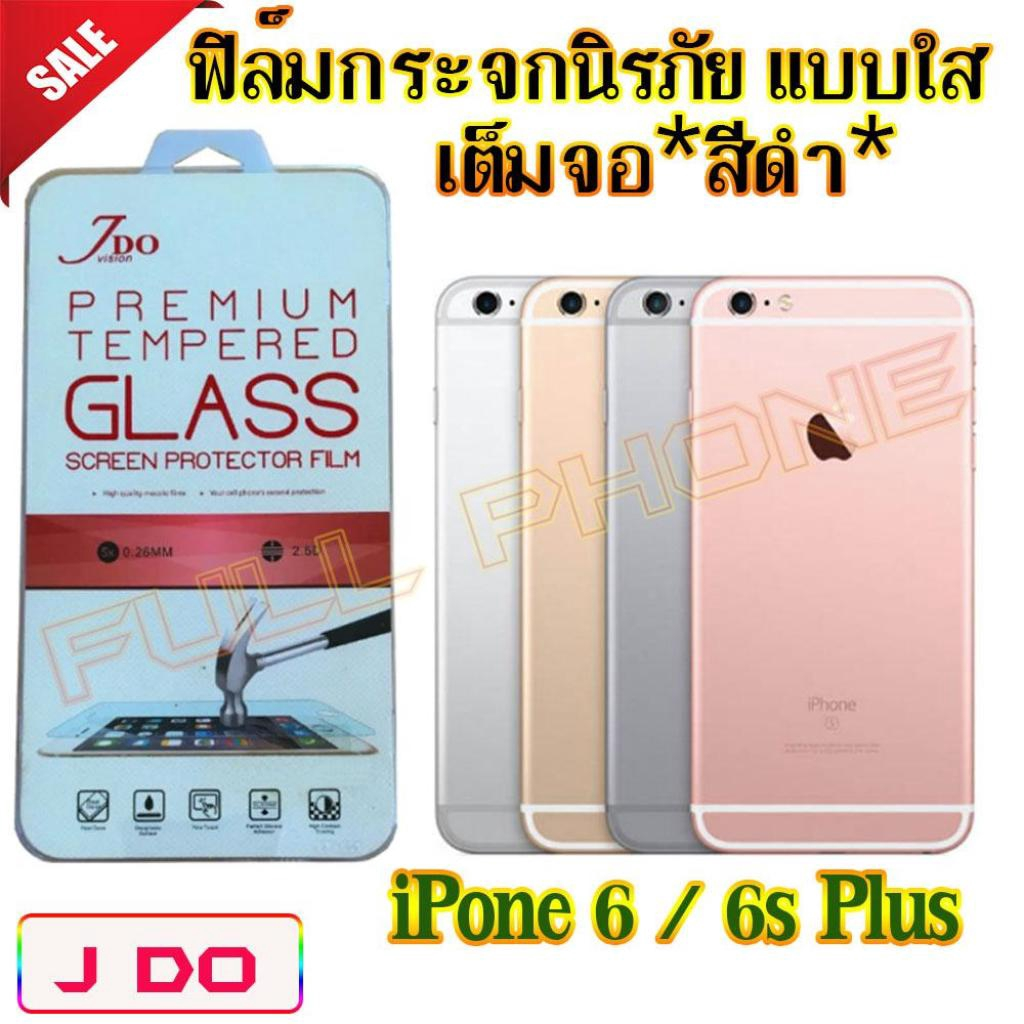phone: (675, 269, 986, 862), (512, 263, 645, 860), (595, 267, 726, 857), (429, 275, 562, 855)
